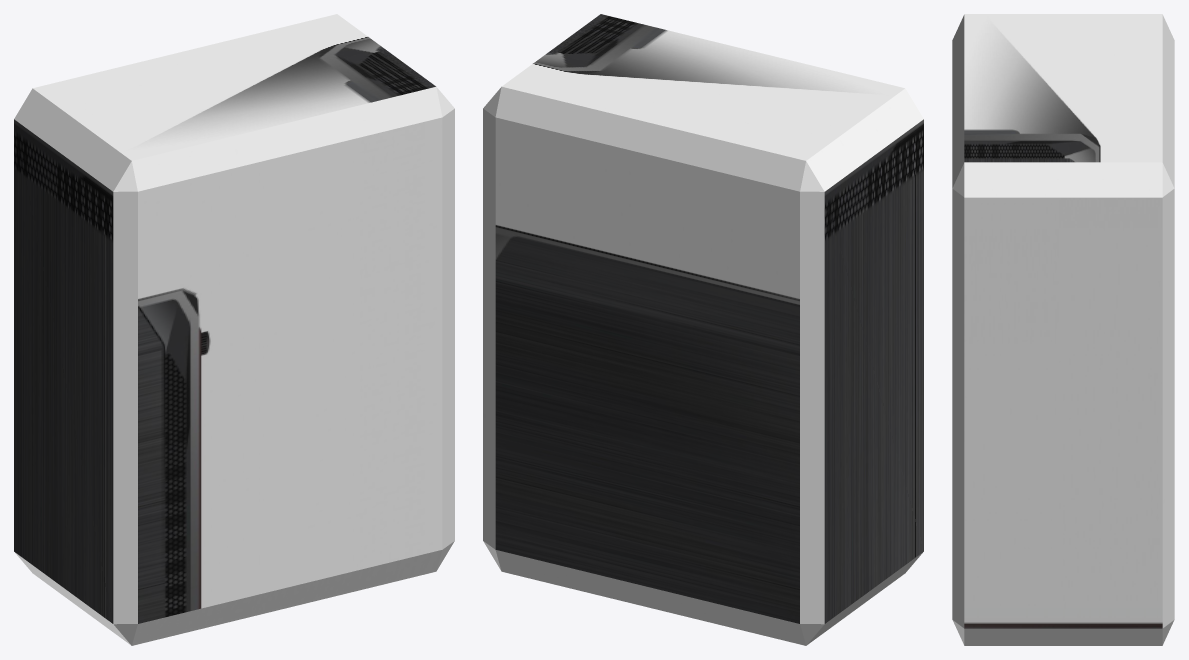
File: Computer Case.fbx
3 views of the same model, side by side, from view 1: azimuth 30°, elevation 25°; view 2: azimuth 150°, elevation 25°; view 3: azimuth 270°, elevation 25° (orthographic).
Parts seen in each view (by area): view 1: Cube; view 2: Cube; view 3: Cube.
Part boxes in pixels (x1=…): Cube: x1=14, y1=14, x2=454, y2=645; Cube: x1=483, y1=14, x2=923, y2=645; Cube: x1=952, y1=14, x2=1174, y2=645.
Bounding box in the file's own units: 301 × 409 × 170.
Materials: 1 (1 with a texture image).
